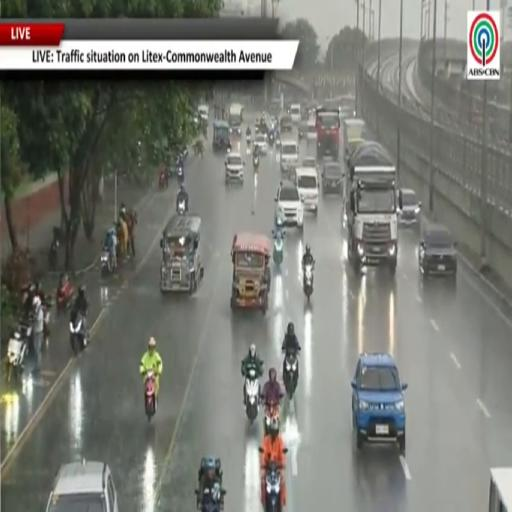bus: (489, 468, 511, 511)
car: (352, 352, 407, 453), (46, 460, 118, 511), (419, 223, 457, 278), (275, 181, 303, 230), (296, 168, 318, 215), (399, 188, 421, 226), (322, 162, 343, 195), (280, 140, 299, 175), (224, 152, 244, 184), (254, 132, 267, 155), (306, 120, 317, 143), (280, 115, 293, 134), (290, 103, 301, 124), (302, 156, 317, 169), (298, 120, 306, 140)
jeepney: (231, 233, 272, 314), (161, 215, 203, 294), (213, 121, 229, 152), (229, 103, 243, 136)
motorcycle: (265, 461, 282, 511), (245, 368, 260, 423), (195, 487, 226, 511), (70, 312, 87, 355), (283, 351, 297, 398), (56, 279, 74, 312), (48, 227, 61, 270), (145, 371, 156, 421), (264, 403, 279, 435), (101, 247, 114, 277), (303, 265, 313, 300), (273, 230, 283, 265), (159, 170, 168, 189), (177, 200, 186, 215), (177, 165, 184, 184), (253, 153, 259, 171), (269, 132, 275, 147), (246, 135, 251, 146), (276, 137, 281, 148), (29, 330, 31, 334)
truck: (343, 141, 401, 274), (316, 107, 340, 161)
